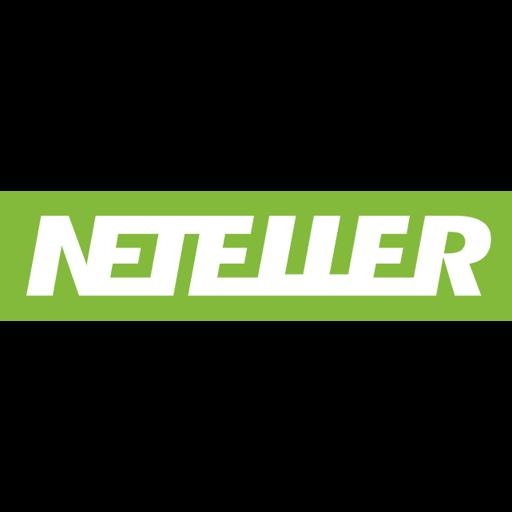Neteller: (0, 191, 512, 321)
